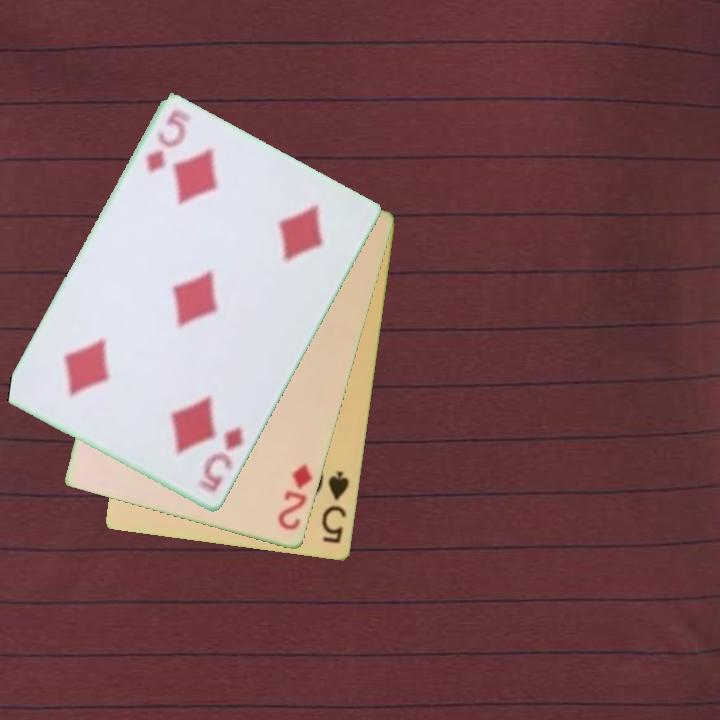2d: (274, 461, 316, 534)
5d: (195, 422, 247, 496), (142, 106, 194, 177)
5s: (318, 468, 352, 547)
